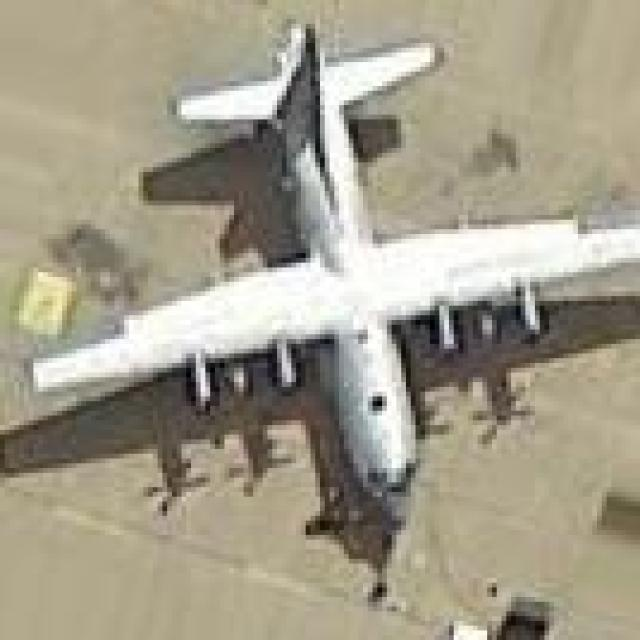C-130_TopDown: (0, 13, 640, 552)
